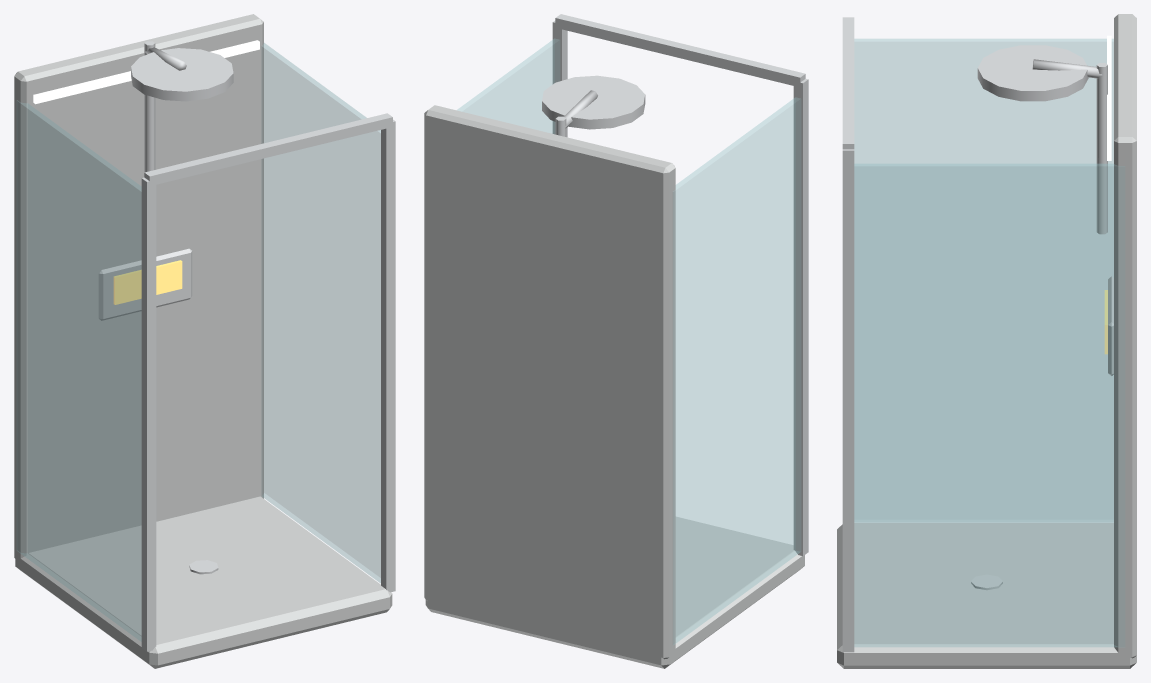
Rendered from hm_shower.glb.
The picture shows the model from 3 angles, left to right: view 1: azimuth 30°, elevation 25°; view 2: azimuth 150°, elevation 25°; view 3: azimuth 270°, elevation 25°; orthographic projection. The views are drawn at different scales.
Parts seen in each view (by area): view 1: hm_shower; view 2: hm_shower; view 3: hm_shower.
Part boxes in pixels (x1=…): hm_shower: x1=14, y1=14, x2=395, y2=668; hm_shower: x1=424, y1=14, x2=808, y2=668; hm_shower: x1=837, y1=14, x2=1136, y2=668.
Size of the model in its own units: 1.33 by 2.62 by 1.3.
